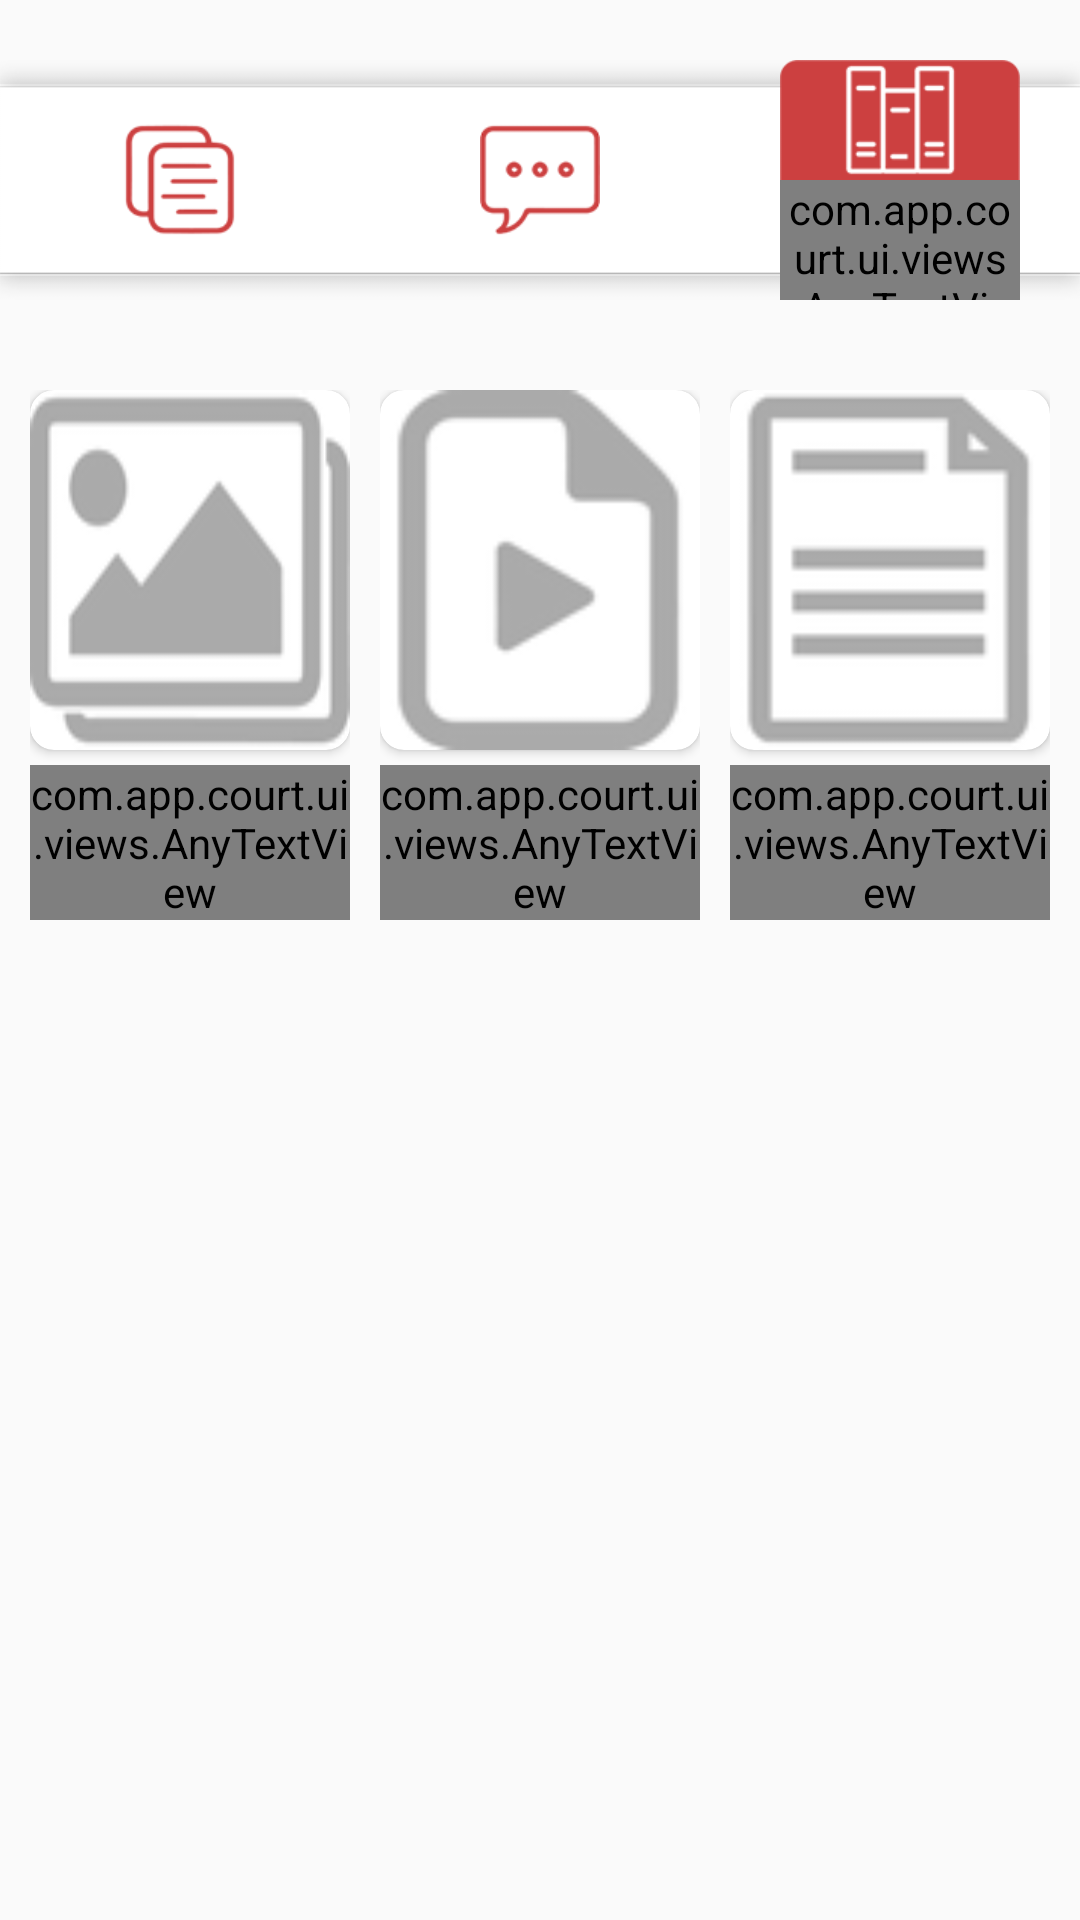

Icon bounding boxes for this 1080 x 1920 phone screenshot, format box(x1, y1, x2, y2):
library: box(780, 60, 1020, 180)
messages: box(480, 125, 600, 234)
thumbnail: box(30, 397, 350, 750)
